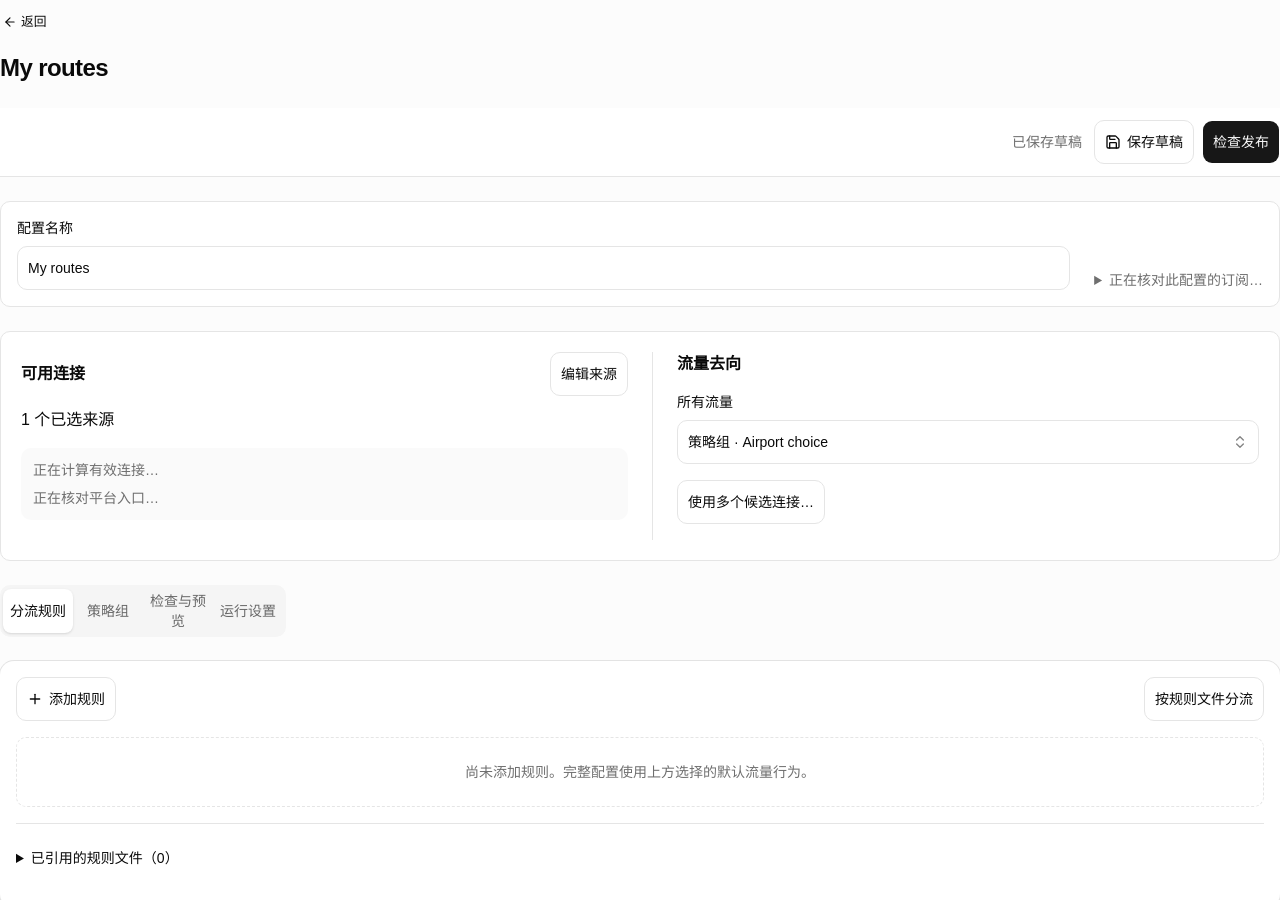
Test: clearing the last source restriction means all current connections, not off
Press the mouse on the tab "策略组" at coordinates (108, 611), box [73,589,143,633]
(page scrolled)
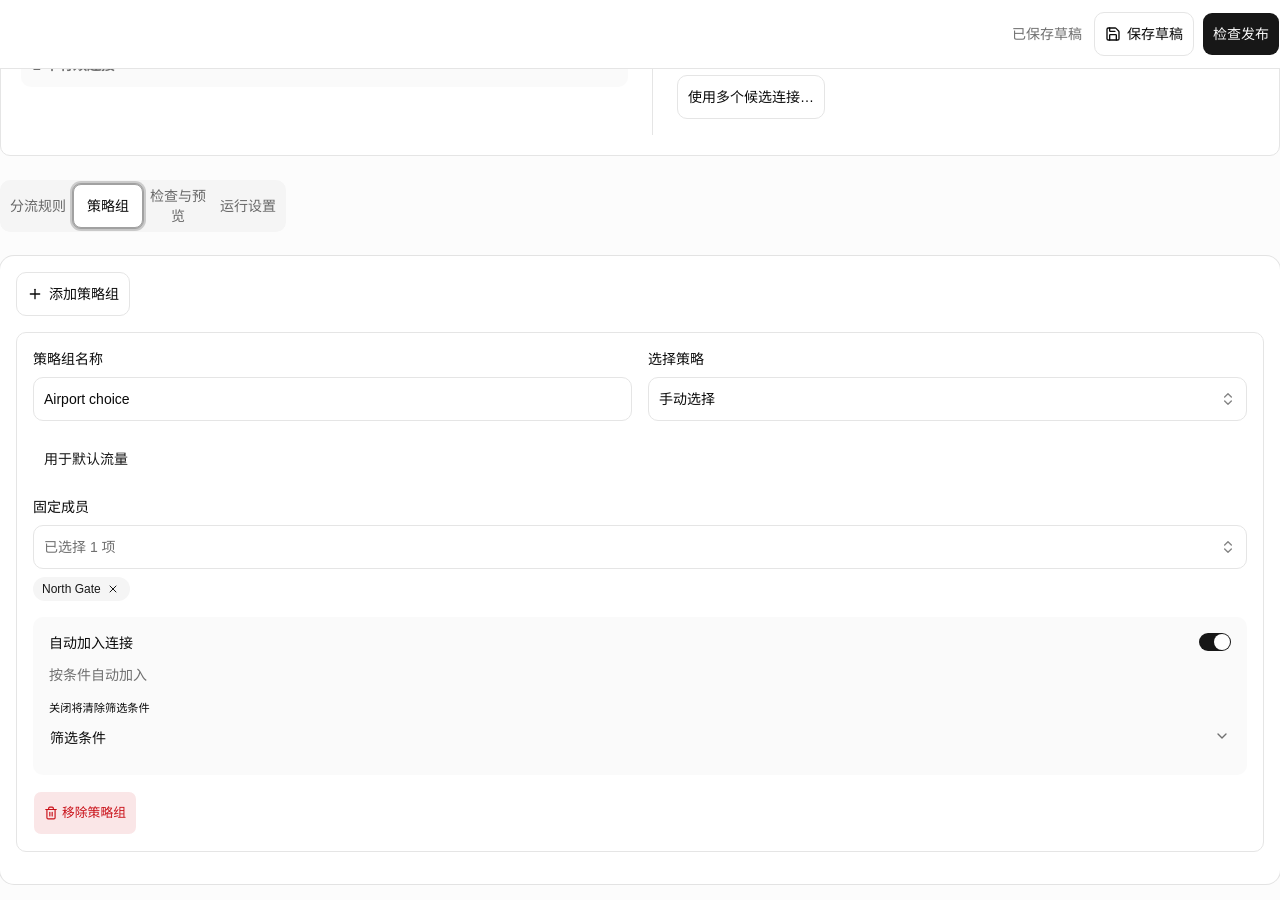
Now the text "2 个有效连接" is shown, box [33,57,115,73]
Click the button "筛选条件" at coordinates (78, 738), box [49,717,1231,759]
(page scrolled)
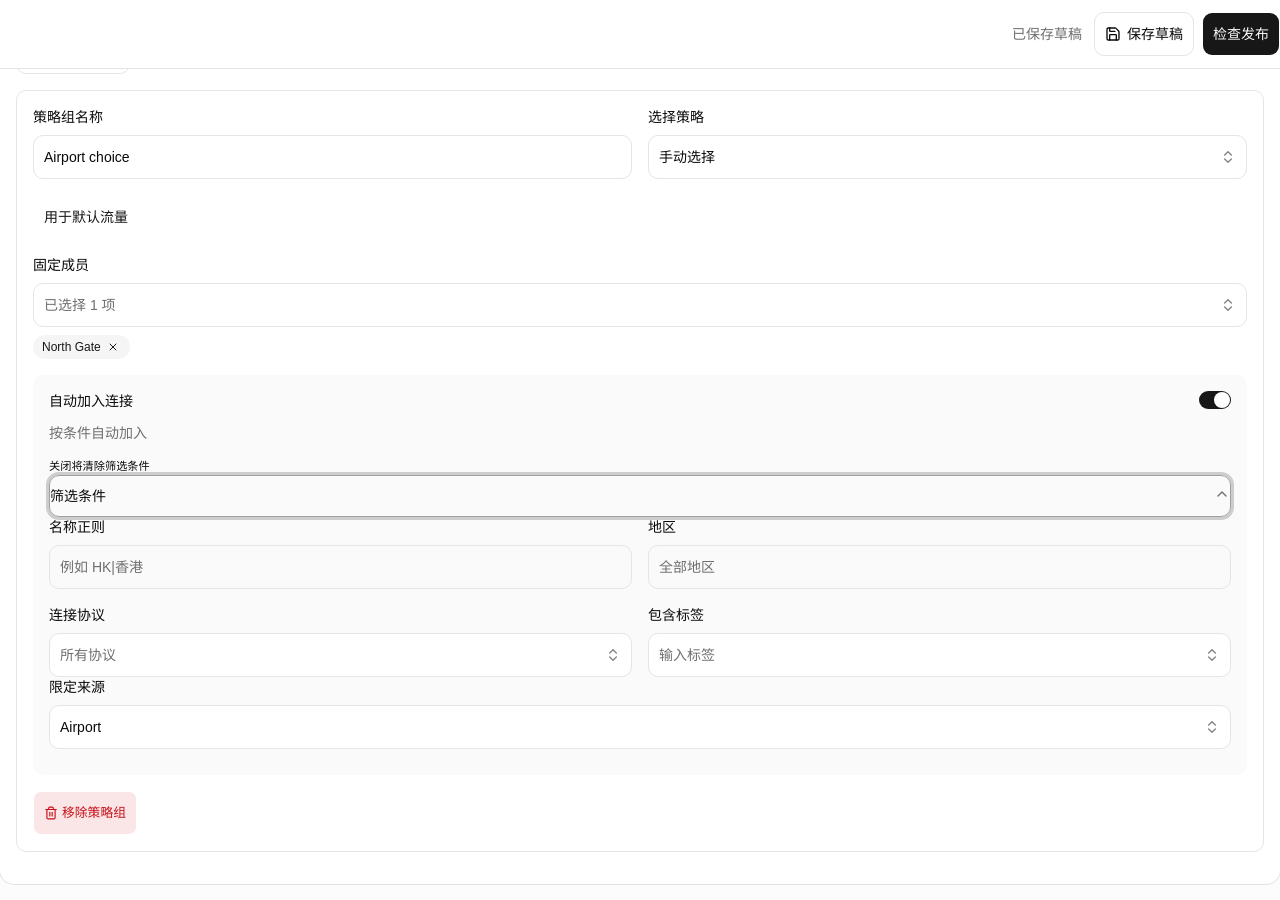
Click the dropdown named "限定来源" at coordinates (81, 727), box [49,705,1231,749]
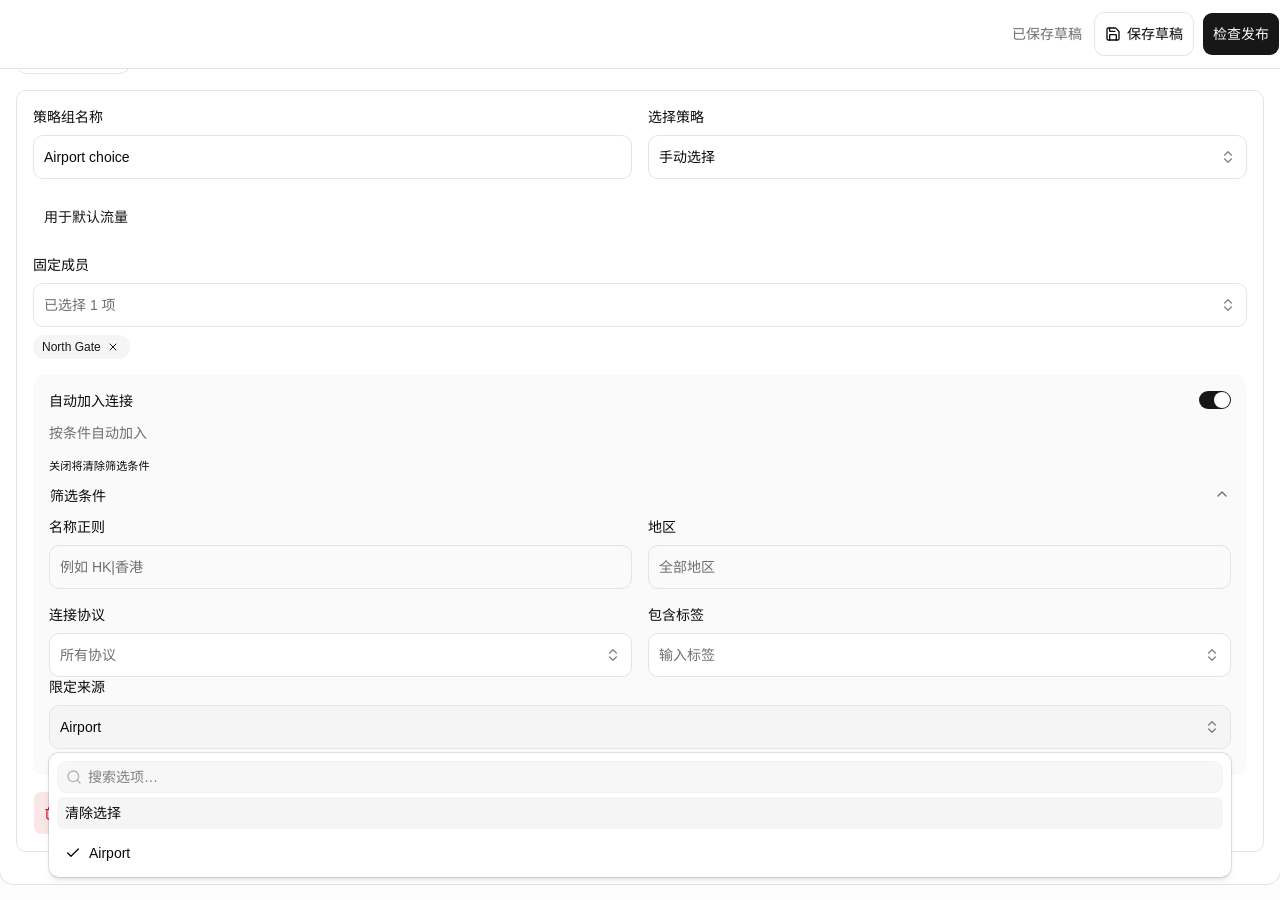
Click the option "清除选择" at coordinates (93, 813), box [57,797,1223,829]
(page scrolled)
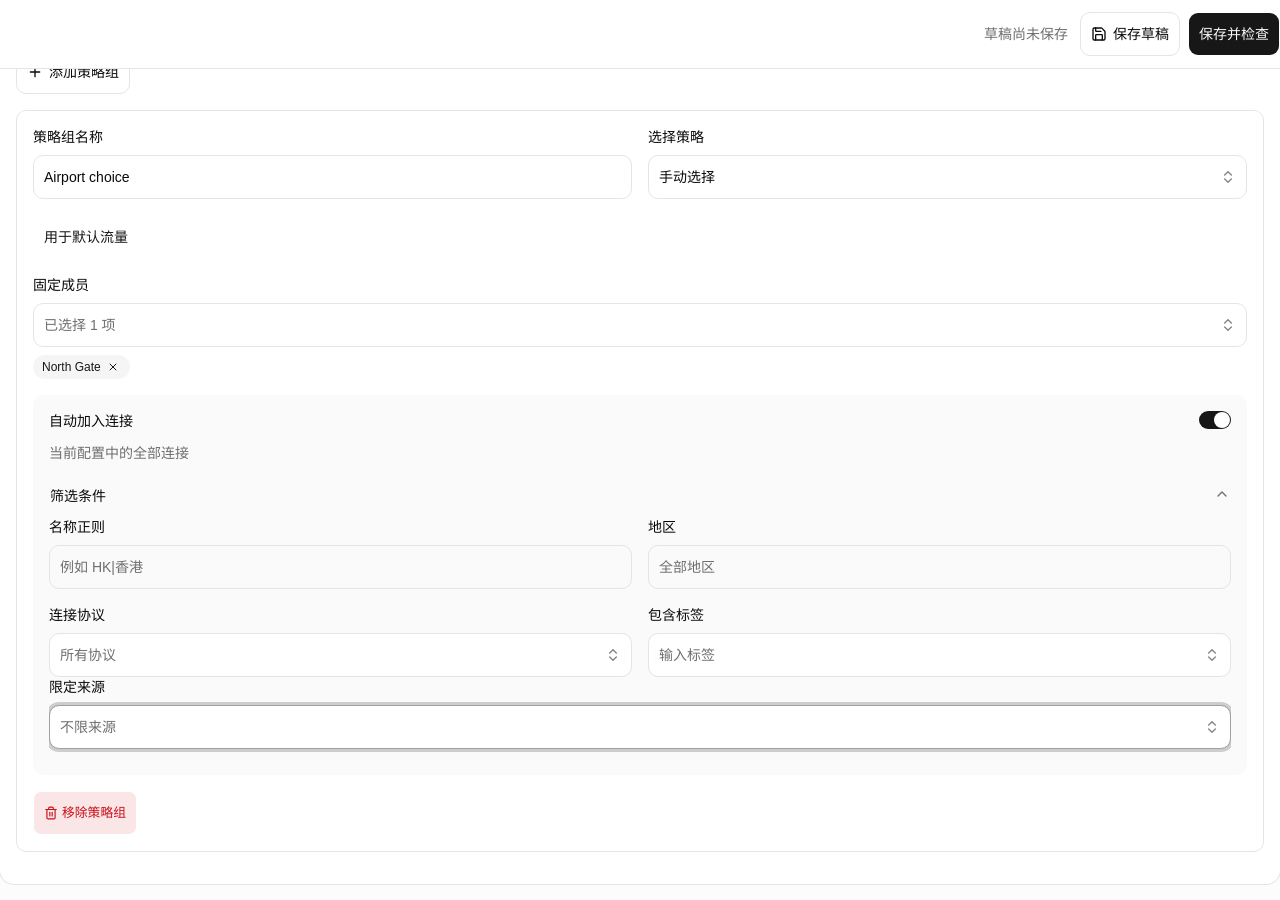
Now the text "当前配置中的全部连接" is shown, box [49,445,189,461]
Click the button "保存草稿" at coordinates (1130, 34), box [1080,12,1180,56]
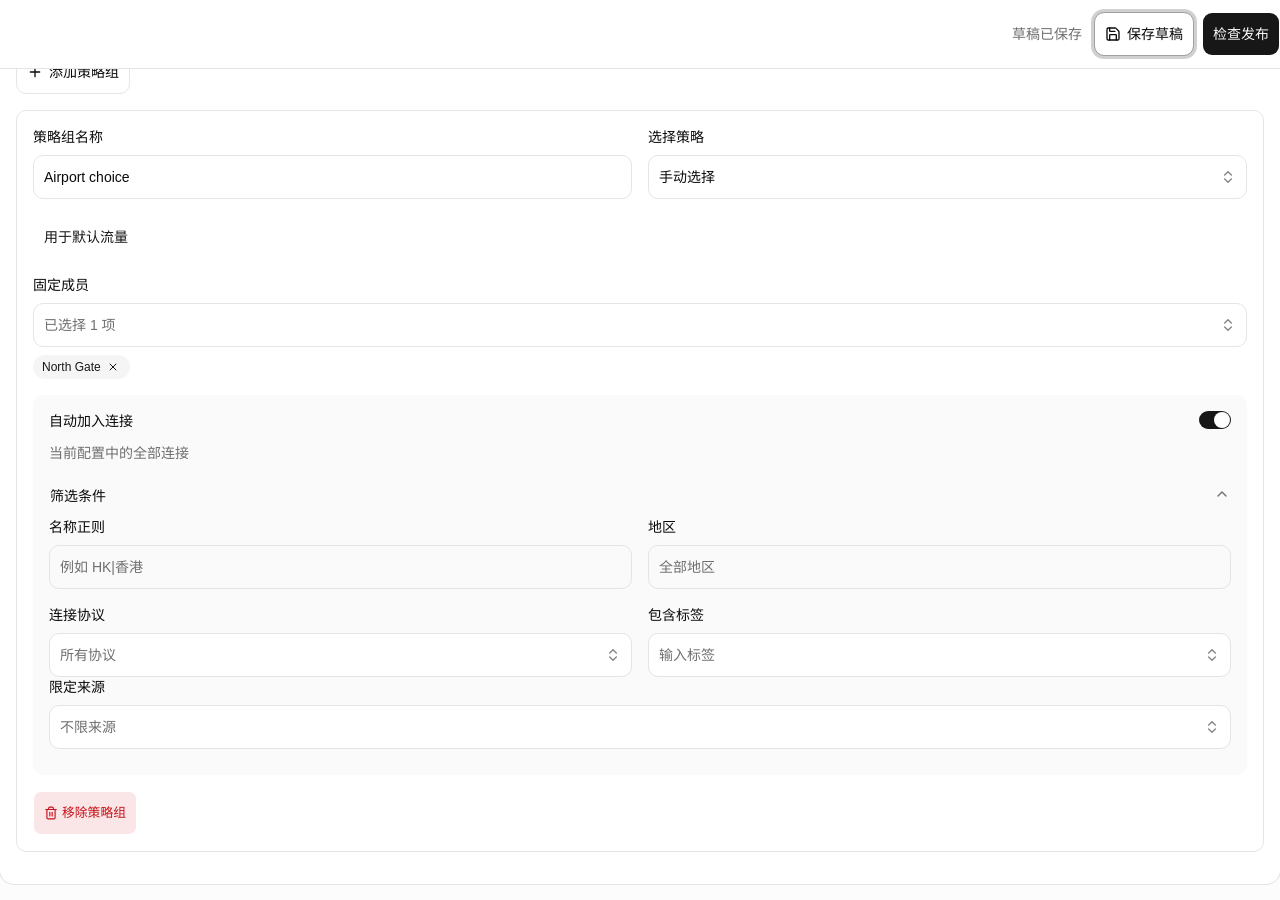
Now the text "草稿已保存" is shown, box [1012,24,1082,44]
